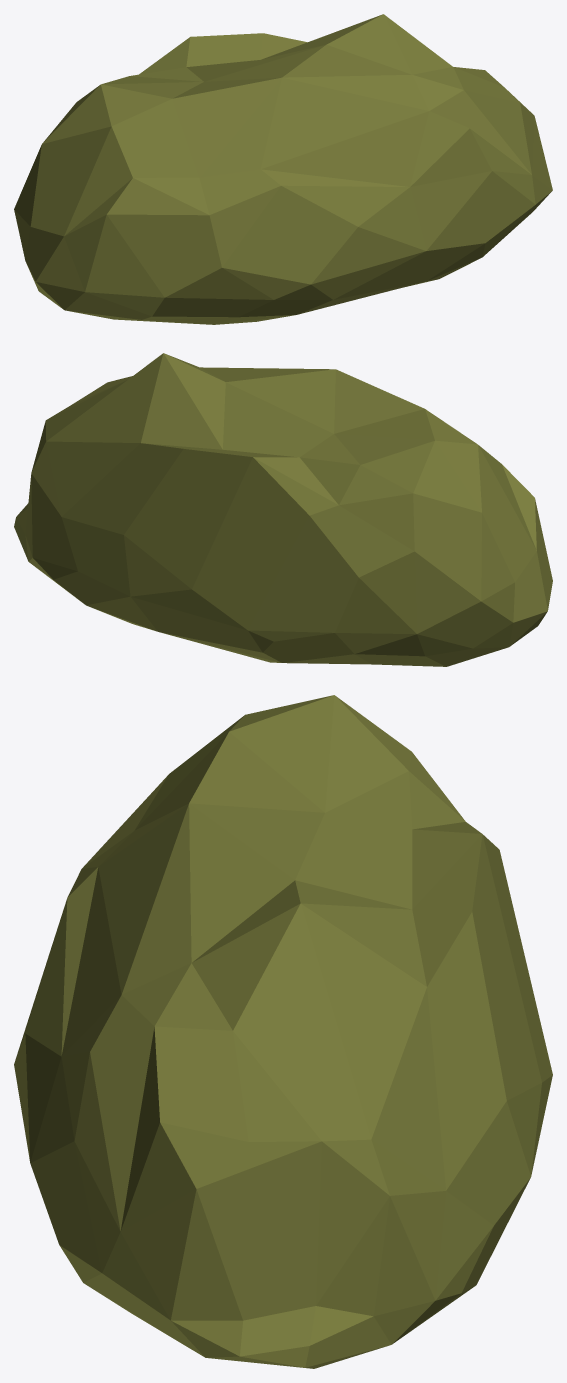
The model's file is victorian_bush_1.fbx.
3 views of the same model, one above another, from view 1: azimuth 30°, elevation 25°; view 2: azimuth 150°, elevation 25°; view 3: azimuth 270°, elevation 25° (orthographic). The views are drawn at different scales.
Visible parts, largest first — view 1: Icosphere; view 2: Icosphere; view 3: Icosphere.
Part boxes in pixels (<box>): Icosphere: <box>14,14,552,324</box>; Icosphere: <box>14,353,552,666</box>; Icosphere: <box>14,695,552,1368</box>.
Size of the model in its own units: 193 by 88.78 by 104.
